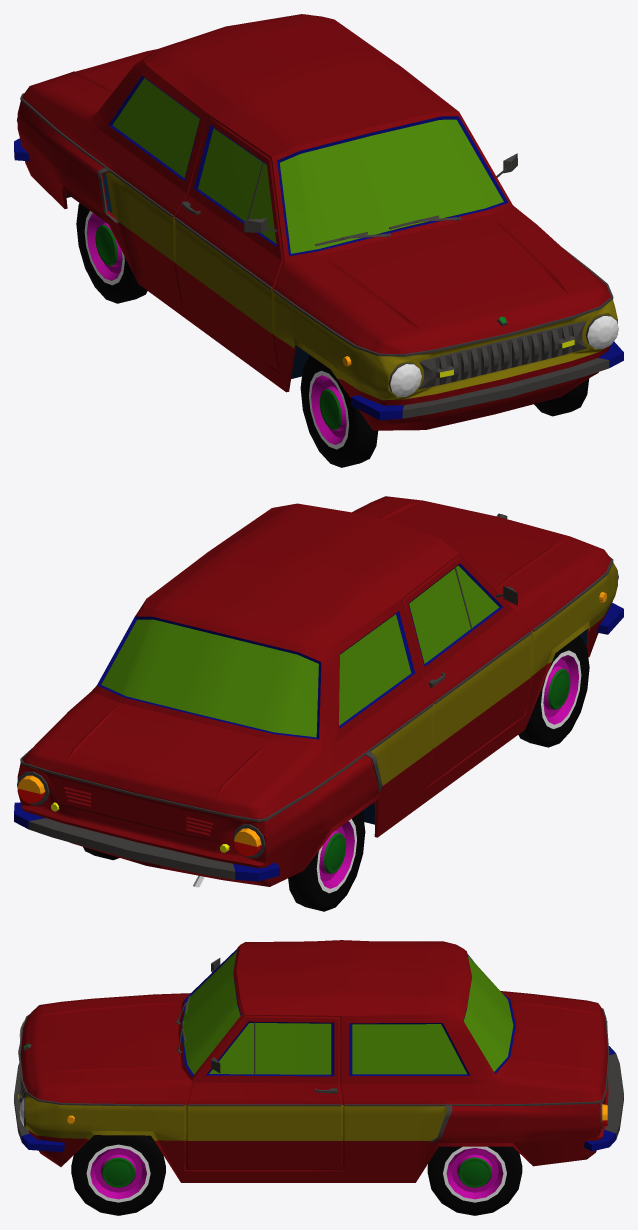
Rendered from Zaporojec_HighPoly.fbx.
3 renders of one model, top to bottom at view 1: azimuth 30°, elevation 25°; view 2: azimuth 150°, elevation 25°; view 3: azimuth 270°, elevation 25°, orthographic. The views are drawn at different scales.
Parts seen in each view (by area): view 1: Body, Wheel_FR, Wheel_RR, Wheel_FL; view 2: Body, Wheel_FR, Wheel_RR; view 3: Body, Wheel_FL, Wheel_RL.
Boxes of the visible parts, x1=… form: Body: x1=14, y1=14, x2=623, y2=430; Wheel_FR: x1=300, y1=355, x2=378, y2=467; Wheel_RR: x1=76, y1=203, x2=147, y2=303; Wheel_FL: x1=534, y1=378, x2=589, y2=416; Body: x1=14, y1=496, x2=623, y2=887; Wheel_FR: x1=518, y1=635, x2=589, y2=747; Wheel_RR: x1=288, y1=811, x2=365, y2=911; Body: x1=14, y1=940, x2=623, y2=1182; Wheel_FL: x1=71, y1=1135, x2=165, y2=1215; Wheel_RL: x1=427, y1=1146, x2=522, y2=1215.
Size of the model in its own units: 154 by 138 by 371.
